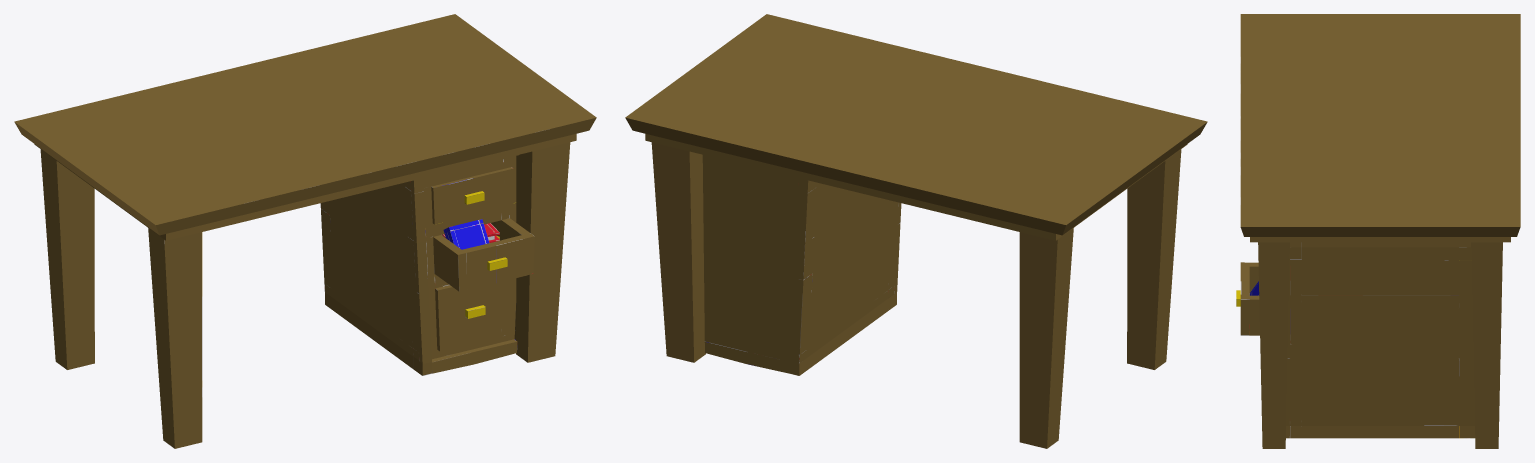
The model's file is 2 Desk.fbx.
3 renders of one model, left to right at view 1: azimuth 30°, elevation 25°; view 2: azimuth 150°, elevation 25°; view 3: azimuth 270°, elevation 25°, orthographic.
Visible parts, largest first — view 1: Cube.002; view 2: Cube.002; view 3: Cube.002.
Boxes of the visible parts, box(x1,y1,x2,y2) form: Cube.002: box(14, 14, 596, 448); Cube.002: box(625, 14, 1207, 448); Cube.002: box(1236, 14, 1520, 448).
Size of the model in its own units: 654 by 339 by 369.
1 material, 1 textured.
